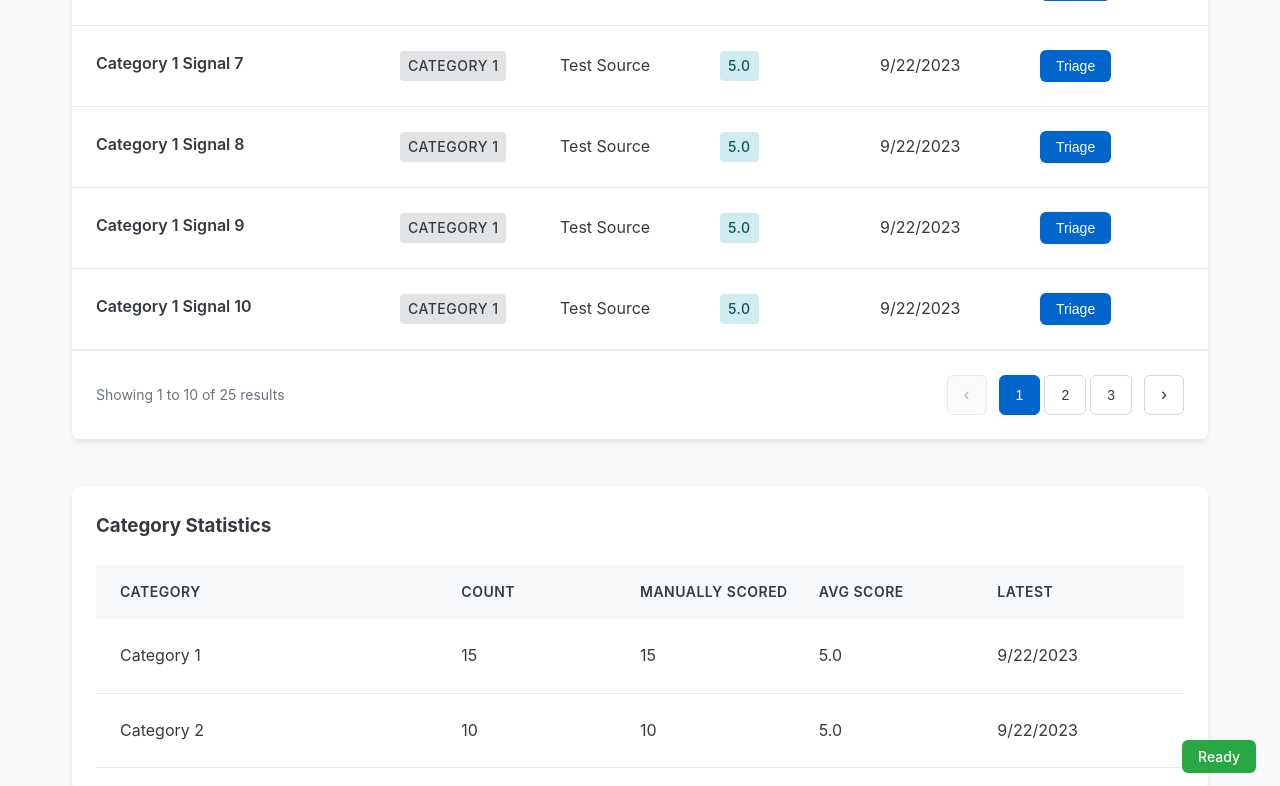
Test: Dashboard › Pagination Integration › pagination resets when category filter changes
This screenshot has width=1280, height=786.
(page scrolled)
Note: Navigate to page 2
Click the button named "Go to next page" at (1164, 395), box [1144, 375, 1184, 415]
(page scrolled)
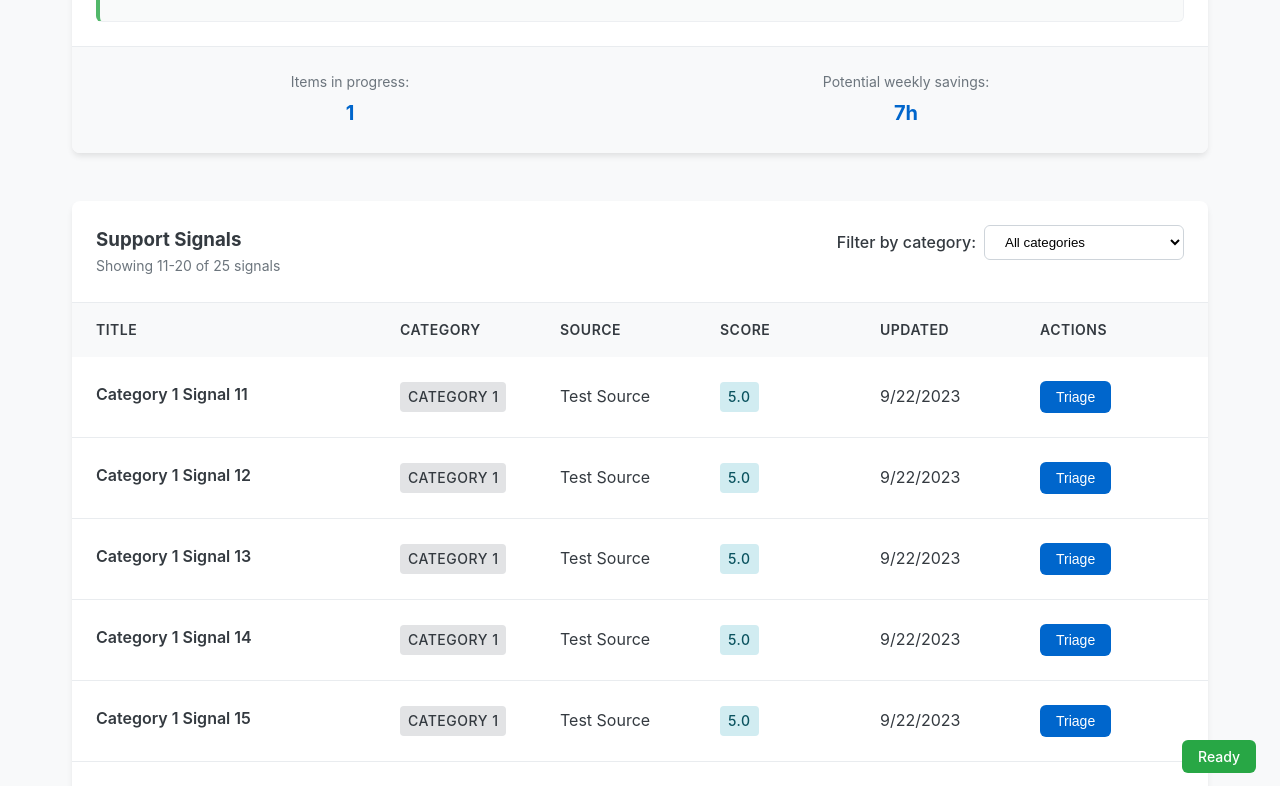
Now the text "Category 1 Signal 11" is shown, box [96, 382, 248, 408]
